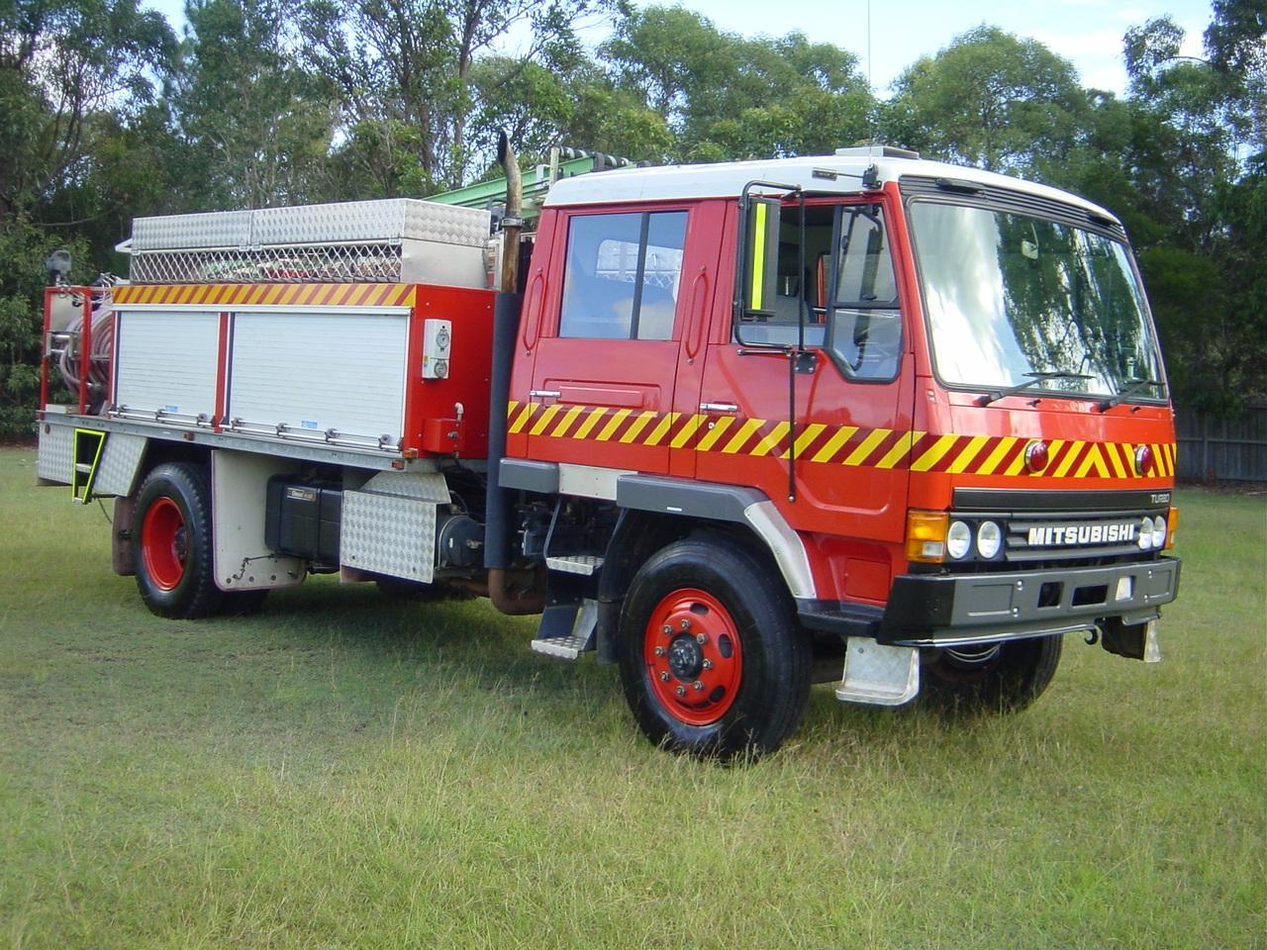Fire-engine: (38, 148, 1188, 769)
